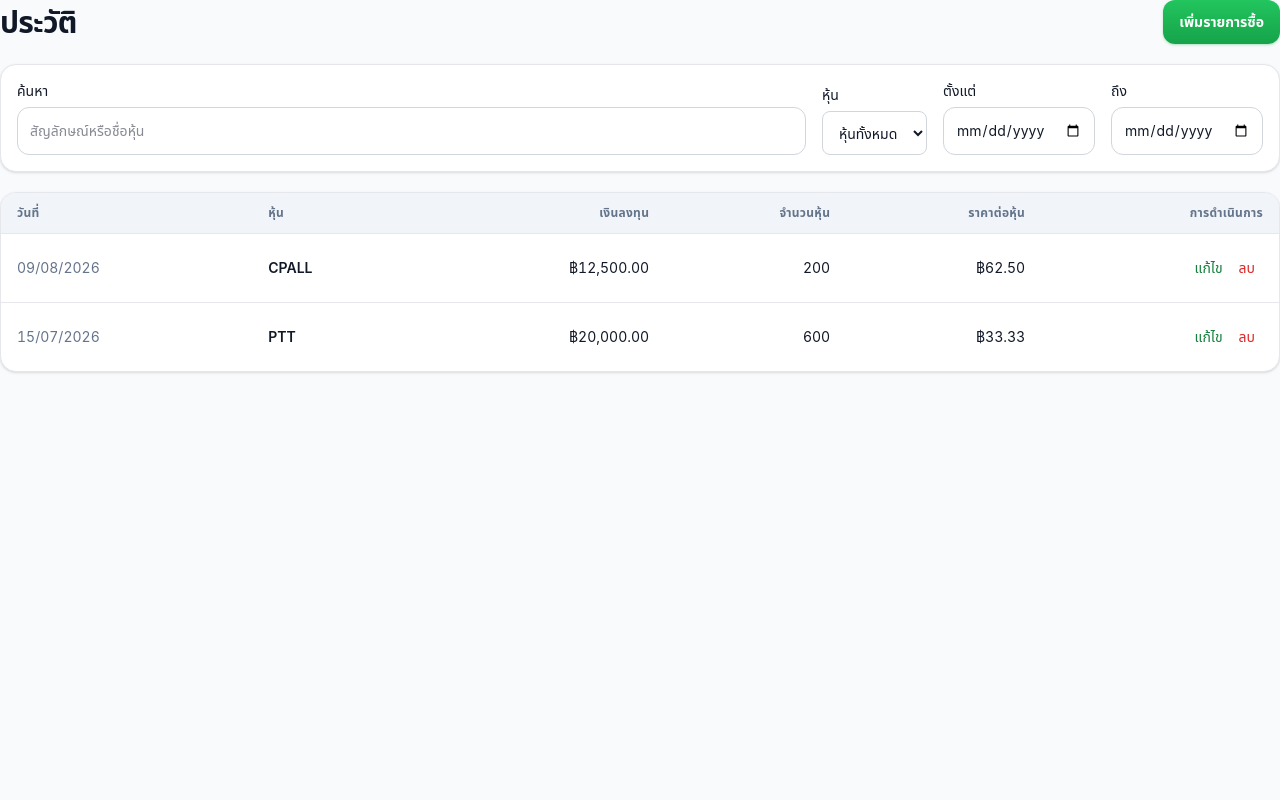
Test: HistoryPage › opens the edit dialog pre-filled from the row
This screenshot has width=1280, height=800.
Click the button "แก้ไข" in the row of "09/08/2026": (1208,268) [1186,246,1230,290]
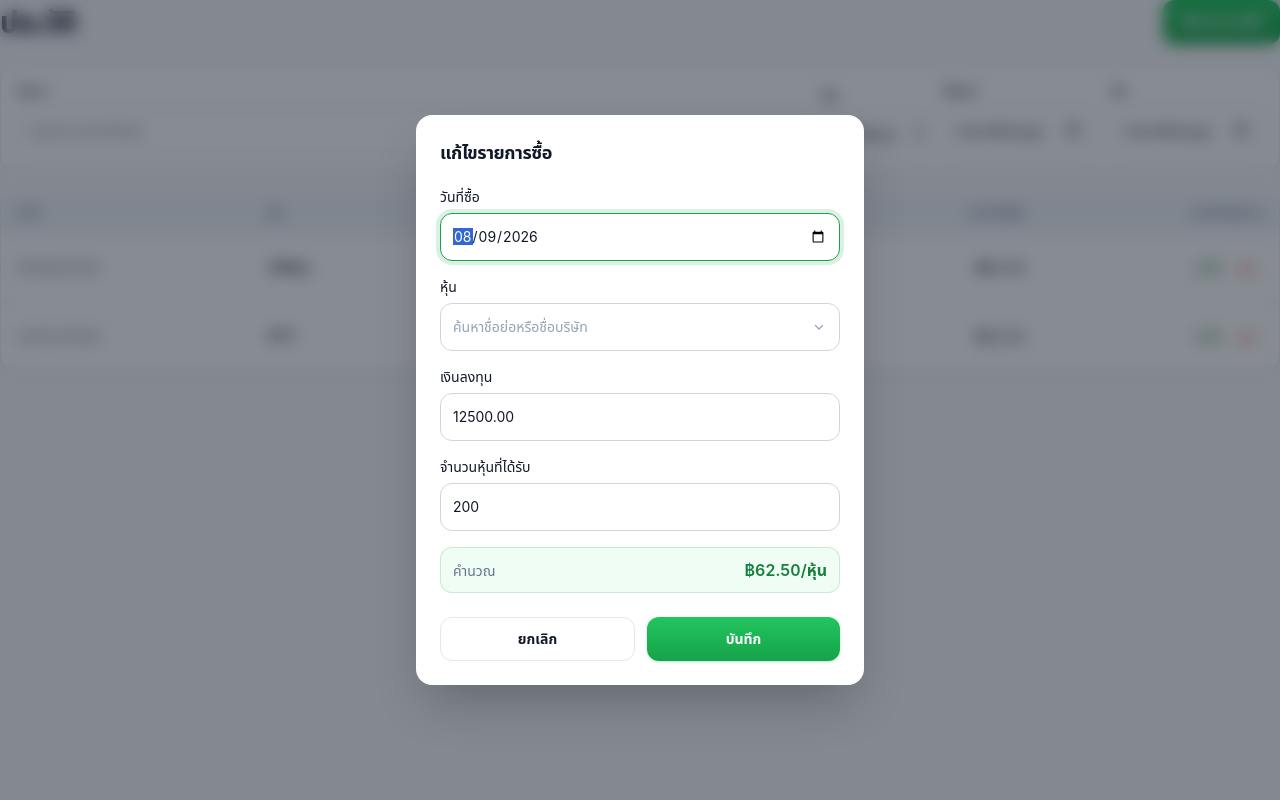
Expected: the field labelled "เงินลงทุน" holds "12500.00", [453,407,827,427]
